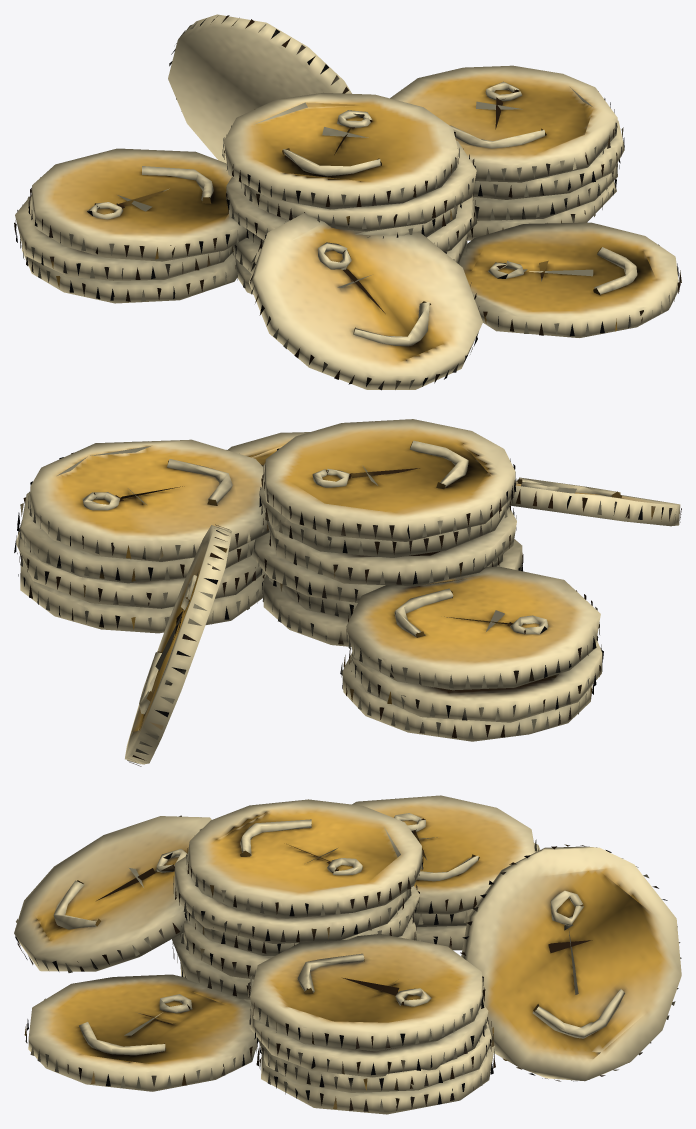
Rendered from item_moedas_v2.glb.
3 views of the same model, one above another, from view 1: azimuth 30°, elevation 25°; view 2: azimuth 150°, elevation 25°; view 3: azimuth 270°, elevation 25° (orthographic). The views are drawn at different scales.
Visible parts, largest first — view 1: item_moedas; view 2: item_moedas; view 3: item_moedas.
Boxes of the visible parts, x1,y1,x2,y2 form: item_moedas: (14,14,681,390); item_moedas: (14,419,681,766); item_moedas: (14,795,681,1114).
Bounding box in the file's own units: 0.1047 × 0.038 × 0.1108.
1 material, 1 textured.
